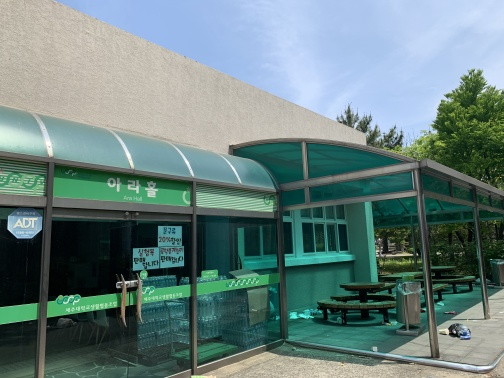Ara Hall: (2, 115, 497, 370)
